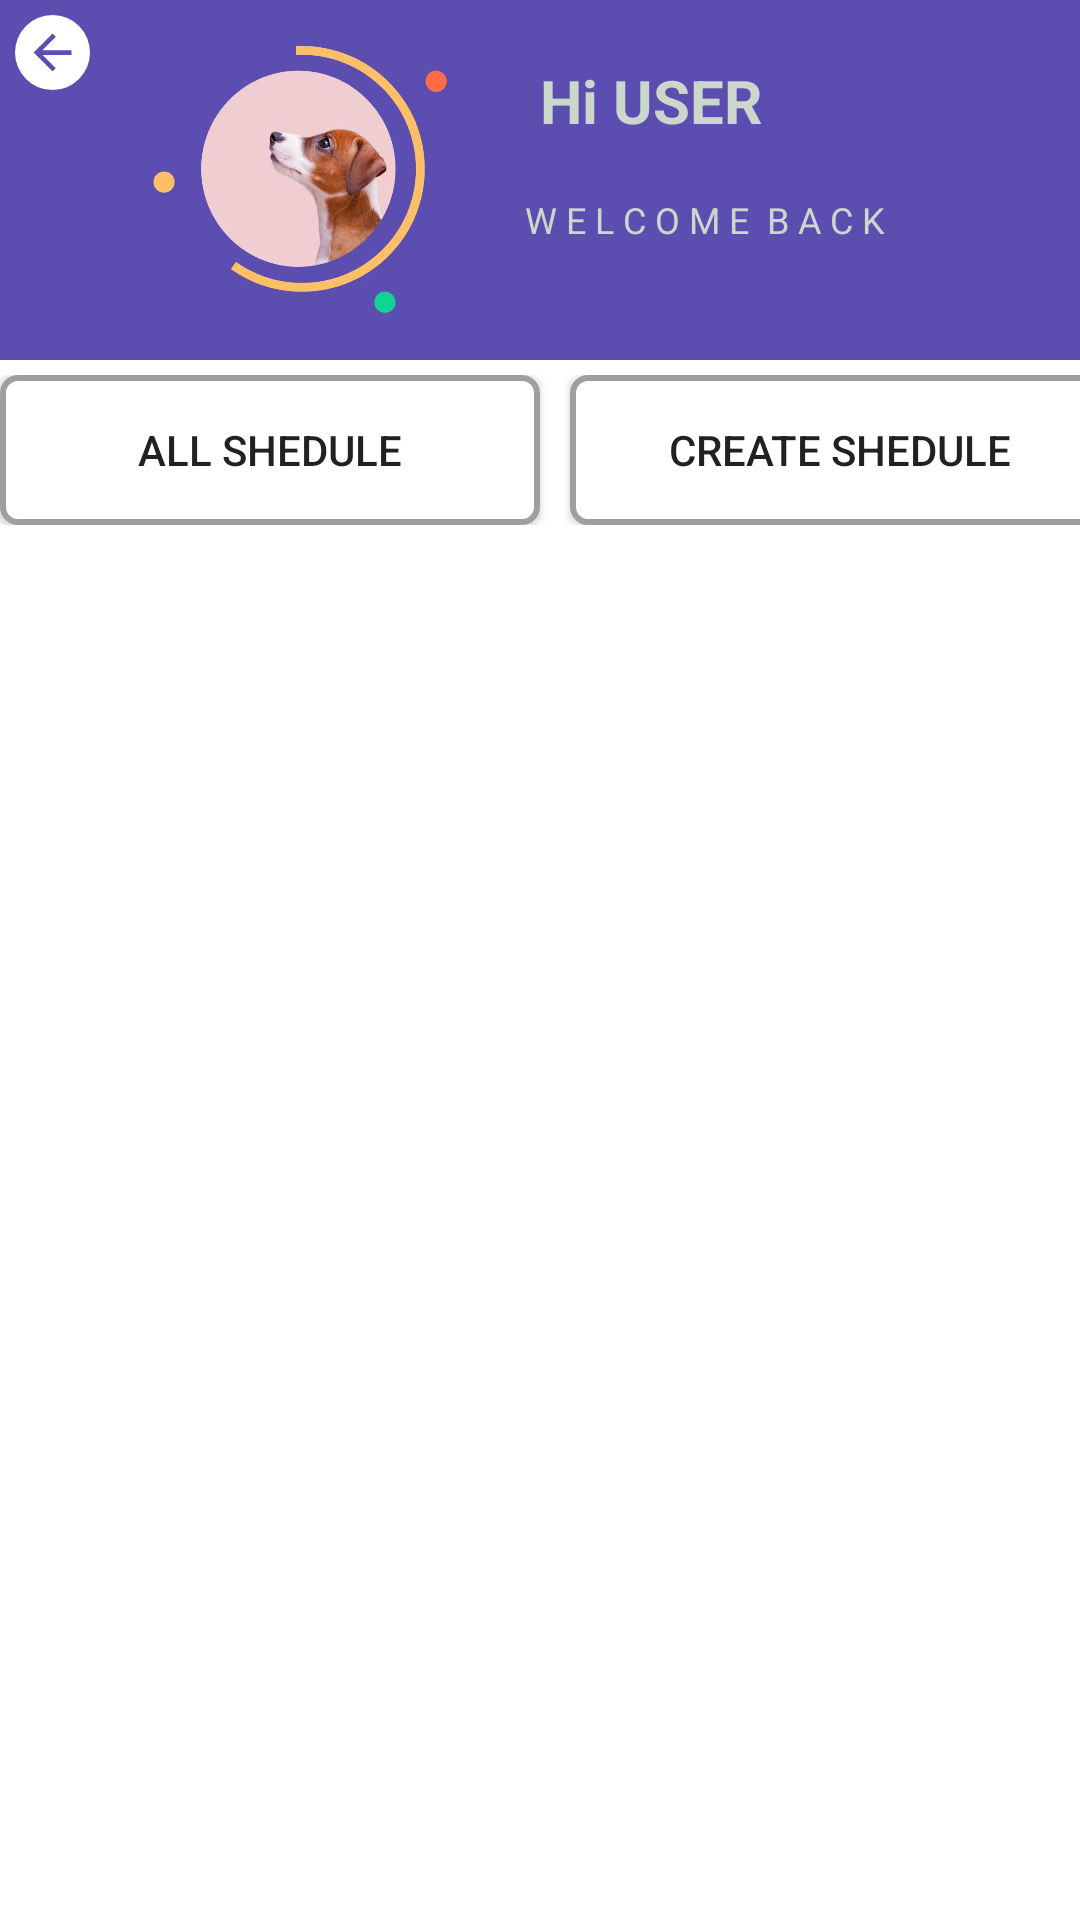

Screen size 1080×1920. Icon name, then its box in pixels as (x1, y1, x2, y2):
back: (15, 15, 90, 90)
